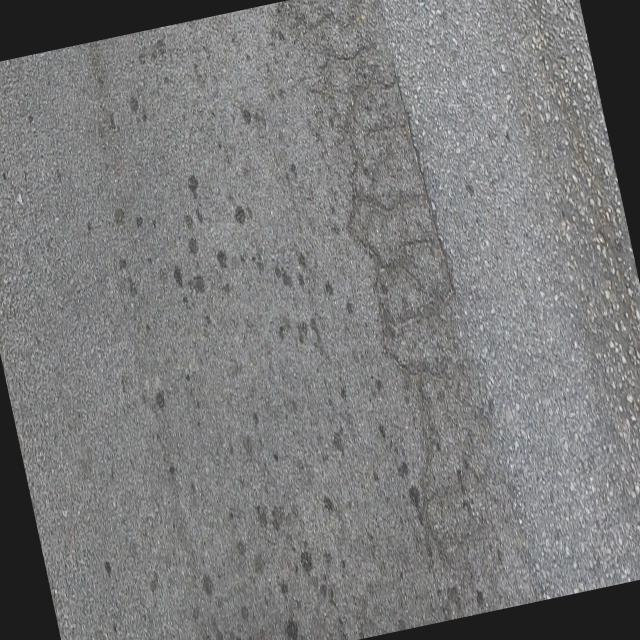Retak-Buaya: (268, 0, 507, 546)
